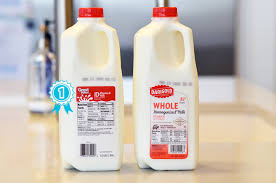milk: (133, 7, 201, 170), (61, 7, 124, 172)
